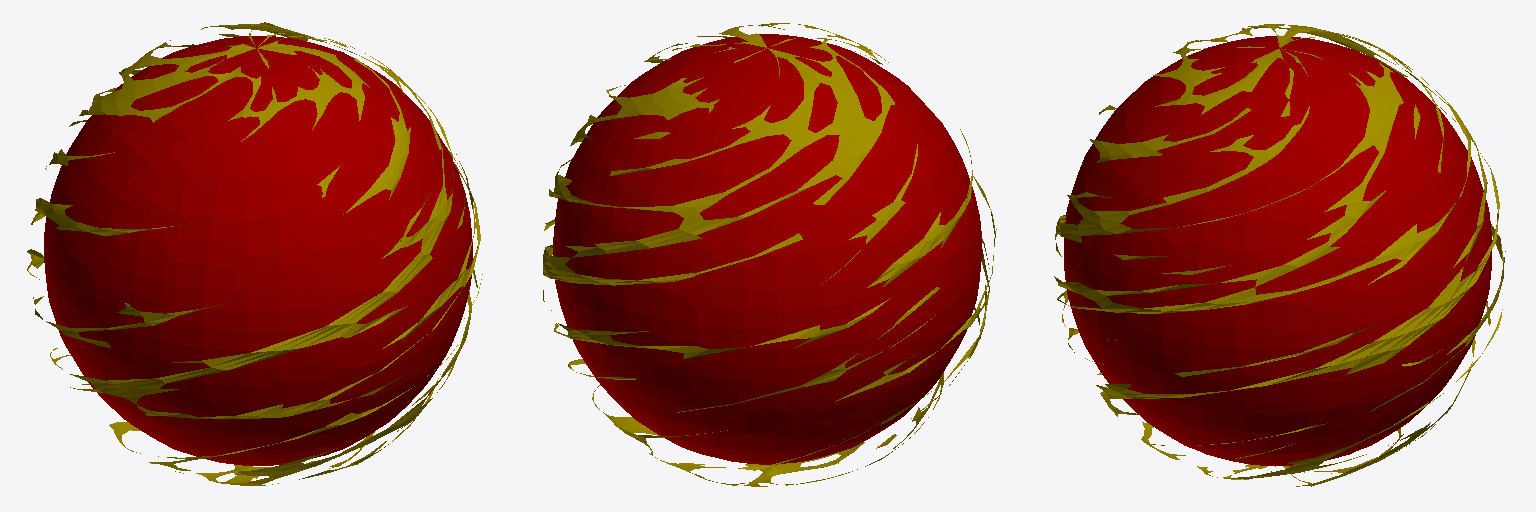
File: FireBall.obj
3 renders of one model, left to right at view 1: azimuth 30°, elevation 25°; view 2: azimuth 150°, elevation 25°; view 3: azimuth 270°, elevation 25°, orthographic.
Visible parts, largest first — view 1: Сфера.001_Сфера.005, Сфера_Сфера.001; view 2: Сфера.001_Сфера.005, Сфера_Сфера.001; view 3: Сфера.001_Сфера.005, Сфера_Сфера.001.
Boxes of the visible parts, box(x1,y1,x2,y2) form: Сфера.001_Сфера.005: box(44, 36, 472, 465); Сфера_Сфера.001: box(27, 22, 482, 485); Сфера.001_Сфера.005: box(553, 34, 981, 464); Сфера_Сфера.001: box(543, 23, 996, 486); Сфера.001_Сфера.005: box(1064, 36, 1491, 465); Сфера_Сфера.001: box(1054, 24, 1505, 486).
Size of the model in its own units: 1.9 by 1.95 by 1.89.